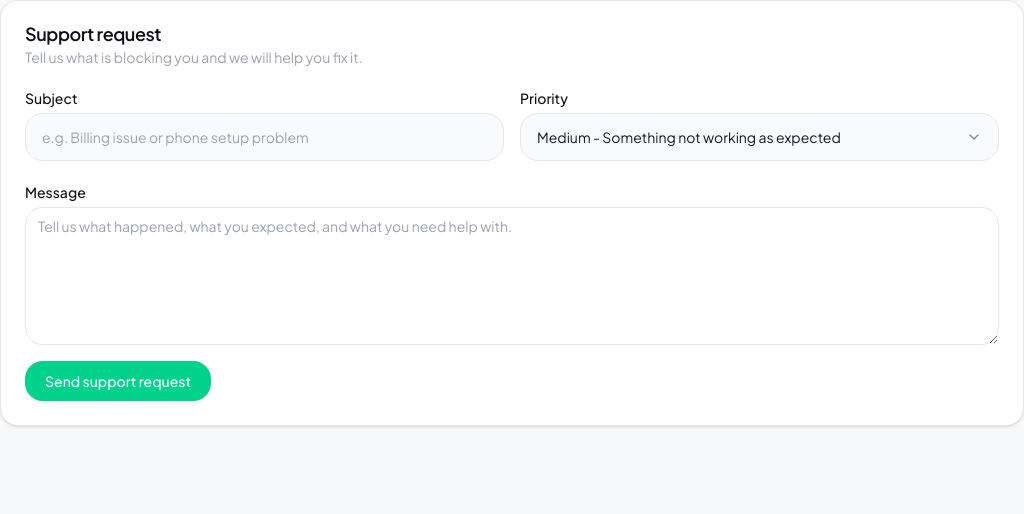
Test: SupportRequestPanel › shows only the error state when the support request fails
In the field labelled "Subject": {"x": 264, "y": 137} x1=25 y1=113 x2=504 y2=161, type "Need help"
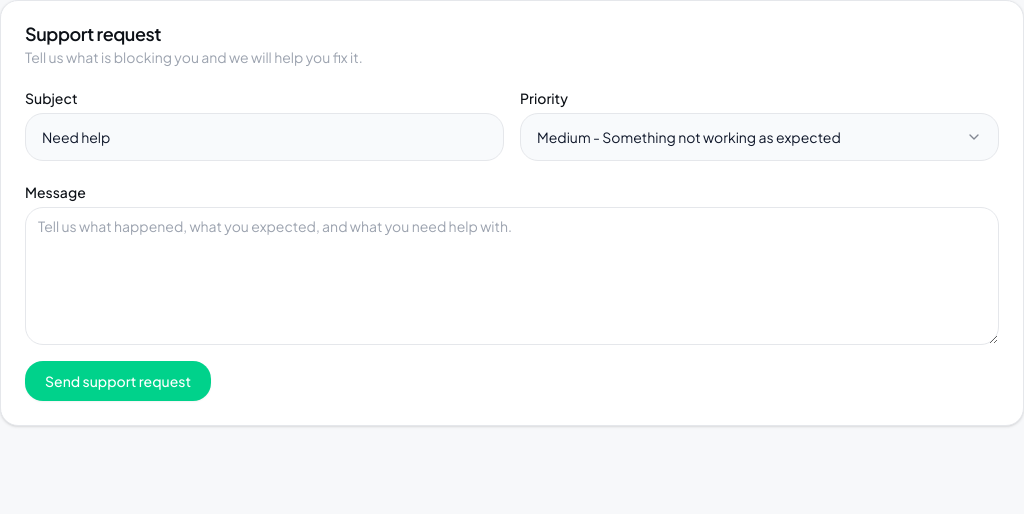
Replace the text in the text box labelled "Message" with "Please help with setup.": {"x": 512, "y": 276} x1=25 y1=207 x2=999 y2=345
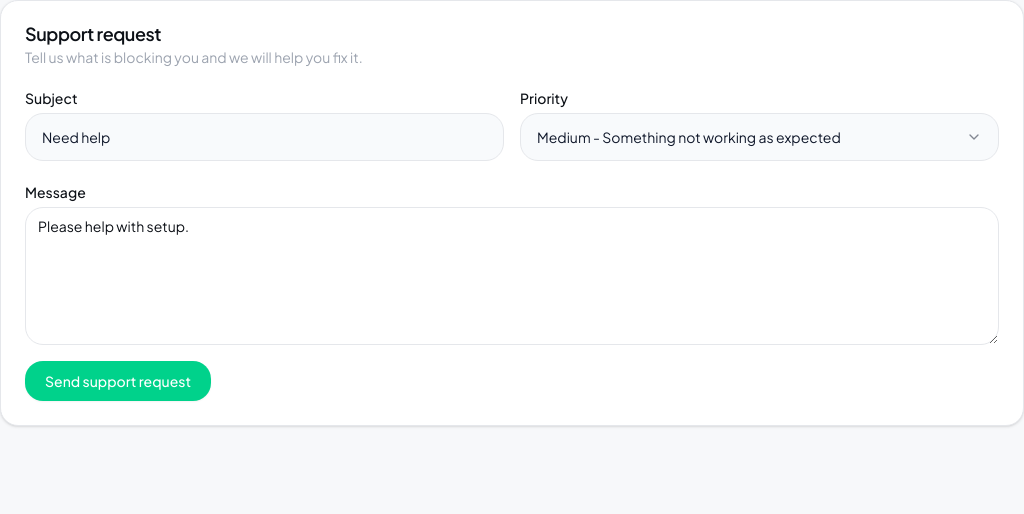
Submit the form, box x1=25 y1=91 x2=999 y2=401
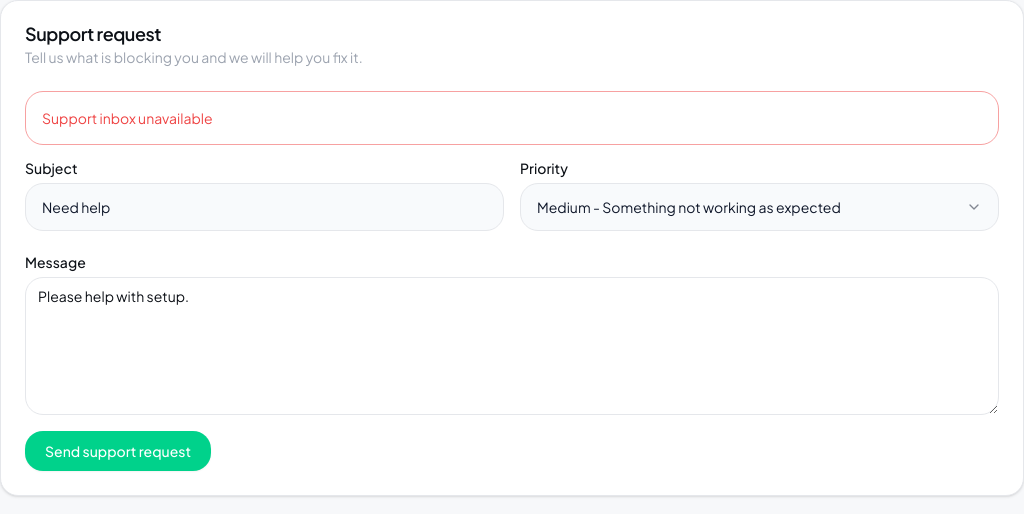
Expected: the text "Support inbox unavailable" is shown, x1=42 y1=109 x2=213 y2=127
